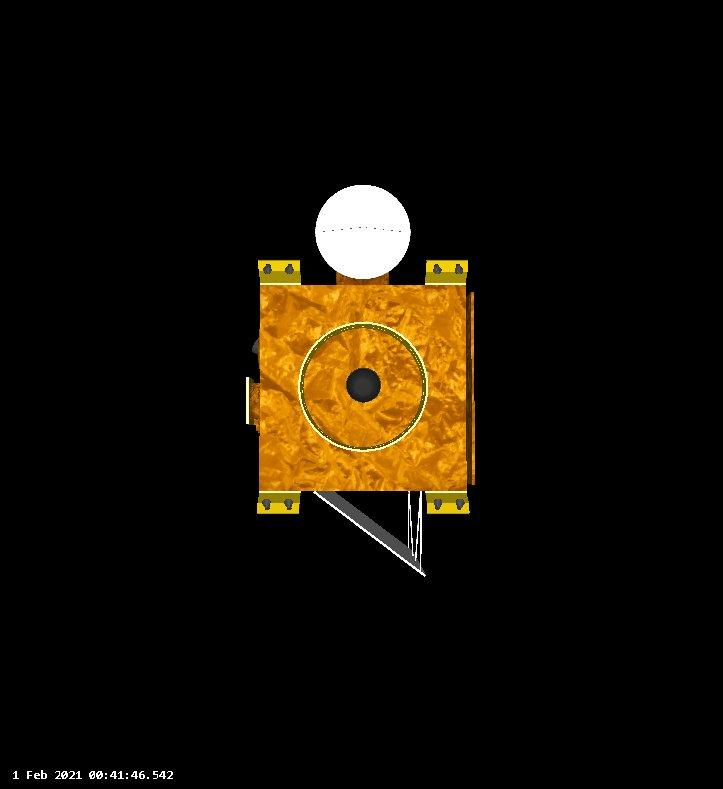antenna: (316, 184, 411, 281)
body: (258, 283, 469, 492)
solar: (312, 489, 433, 579), (466, 290, 481, 488)
thruster: (343, 364, 383, 405), (249, 336, 262, 355), (431, 262, 443, 277), (453, 263, 465, 277), (454, 496, 465, 511), (261, 497, 272, 511), (262, 264, 274, 276), (432, 497, 443, 510), (284, 498, 295, 511), (284, 263, 295, 275)
